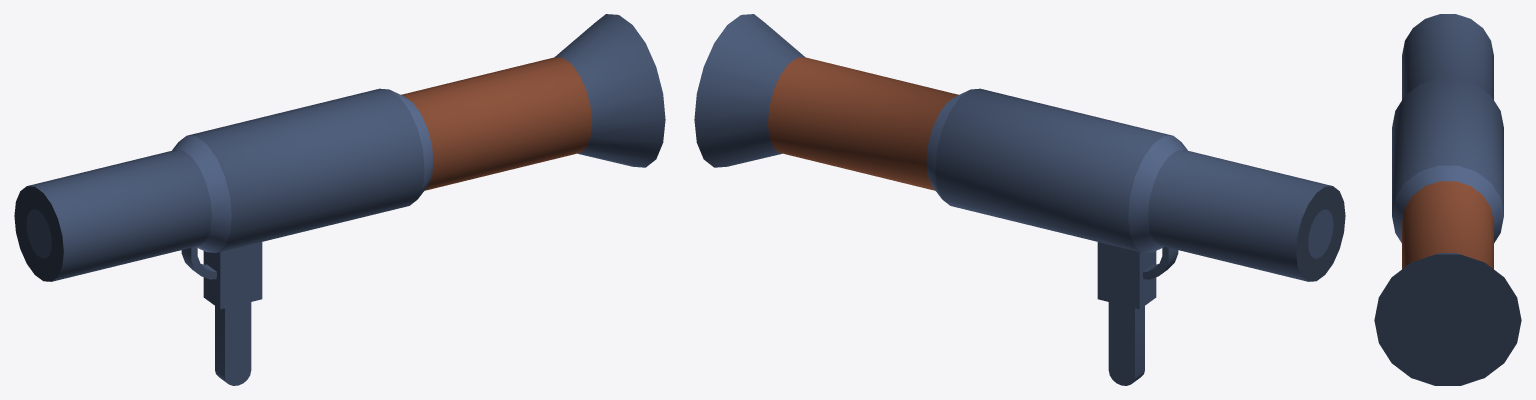
The model's file is Rocket Launcher.fbx.
The picture shows the model from 3 angles, left to right: view 1: azimuth 30°, elevation 25°; view 2: azimuth 150°, elevation 25°; view 3: azimuth 270°, elevation 25°; orthographic projection. The views are drawn at different scales.
Parts seen in each view (by area): view 1: Rocket Launcher; view 2: Rocket Launcher; view 3: Rocket Launcher.
Part boxes in pixels (x1=…): Rocket Launcher: x1=14, y1=14, x2=665, y2=385; Rocket Launcher: x1=694, y1=14, x2=1345, y2=385; Rocket Launcher: x1=1374, y1=14, x2=1521, y2=385.
Bounding box in the file's own units: 2.01 × 0.8692 × 0.4702.
